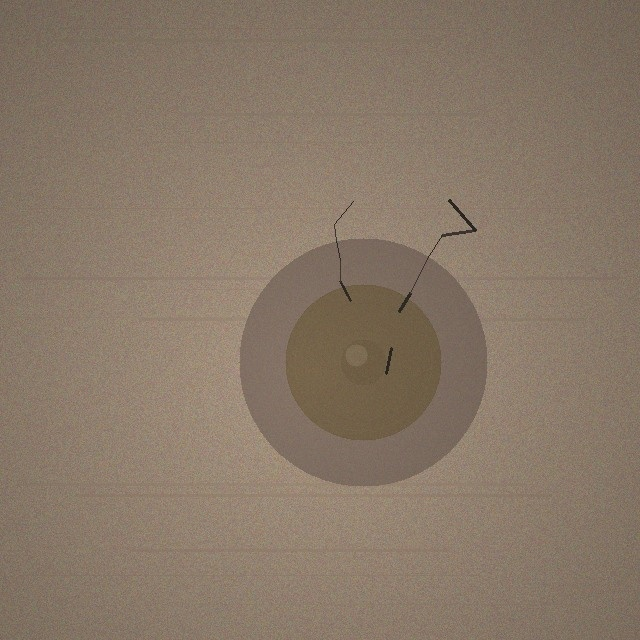crack: (239, 238, 487, 486)
